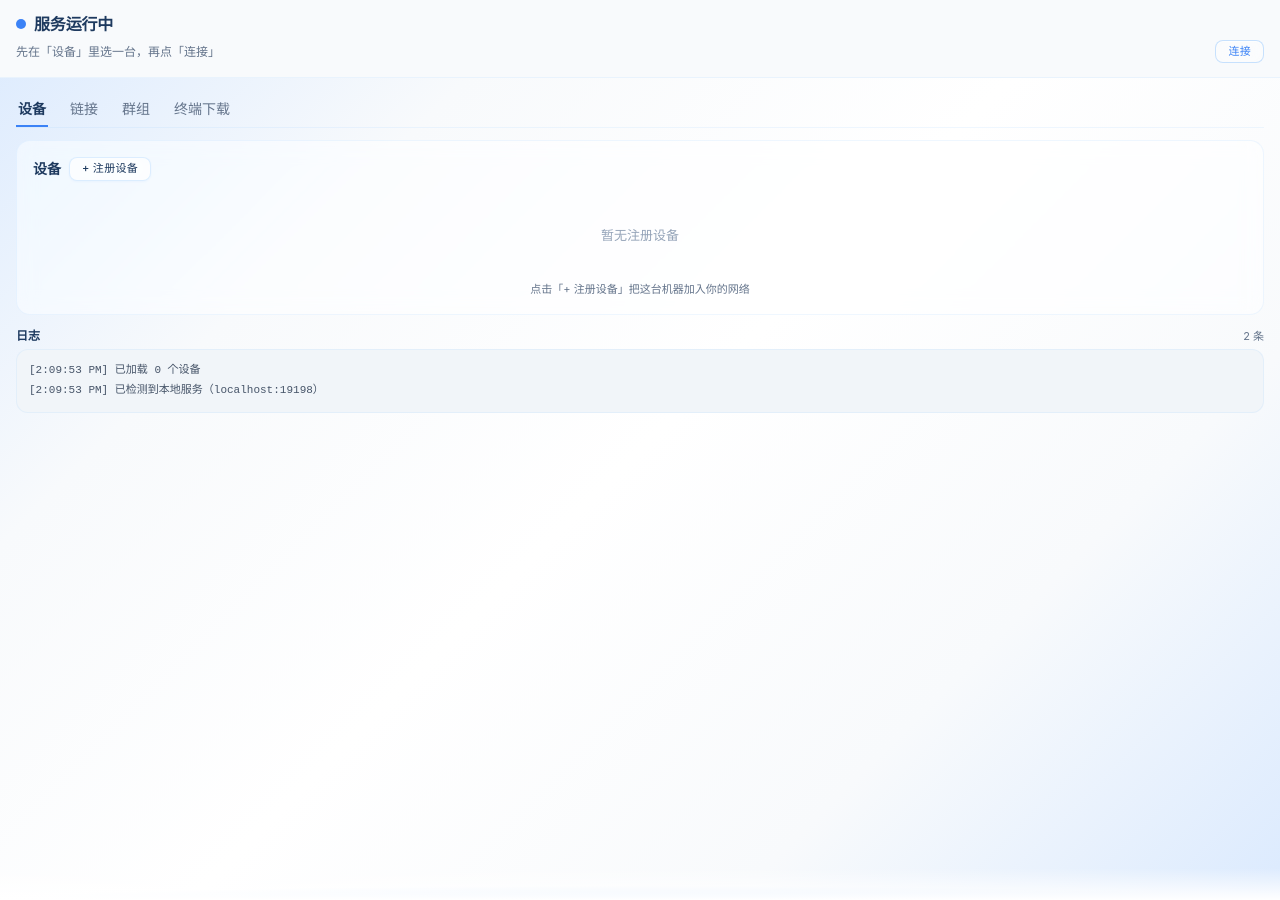
HuanvaeGuardPage 探活链路（结构性缺陷回归） › 就绪不得误清无关错误：连接失败的错误横幅不因服务就绪而消失（负向对照）
The width and height of the screenshot is (1280, 900).
# 用真实交互制造一条与服务状态无关的错误：未选设备就点「连接」→ handleConnect 顶部早返回
Click the button "连接": [1240, 52] box [1215,40,1264,63]
Wait 7000 ms
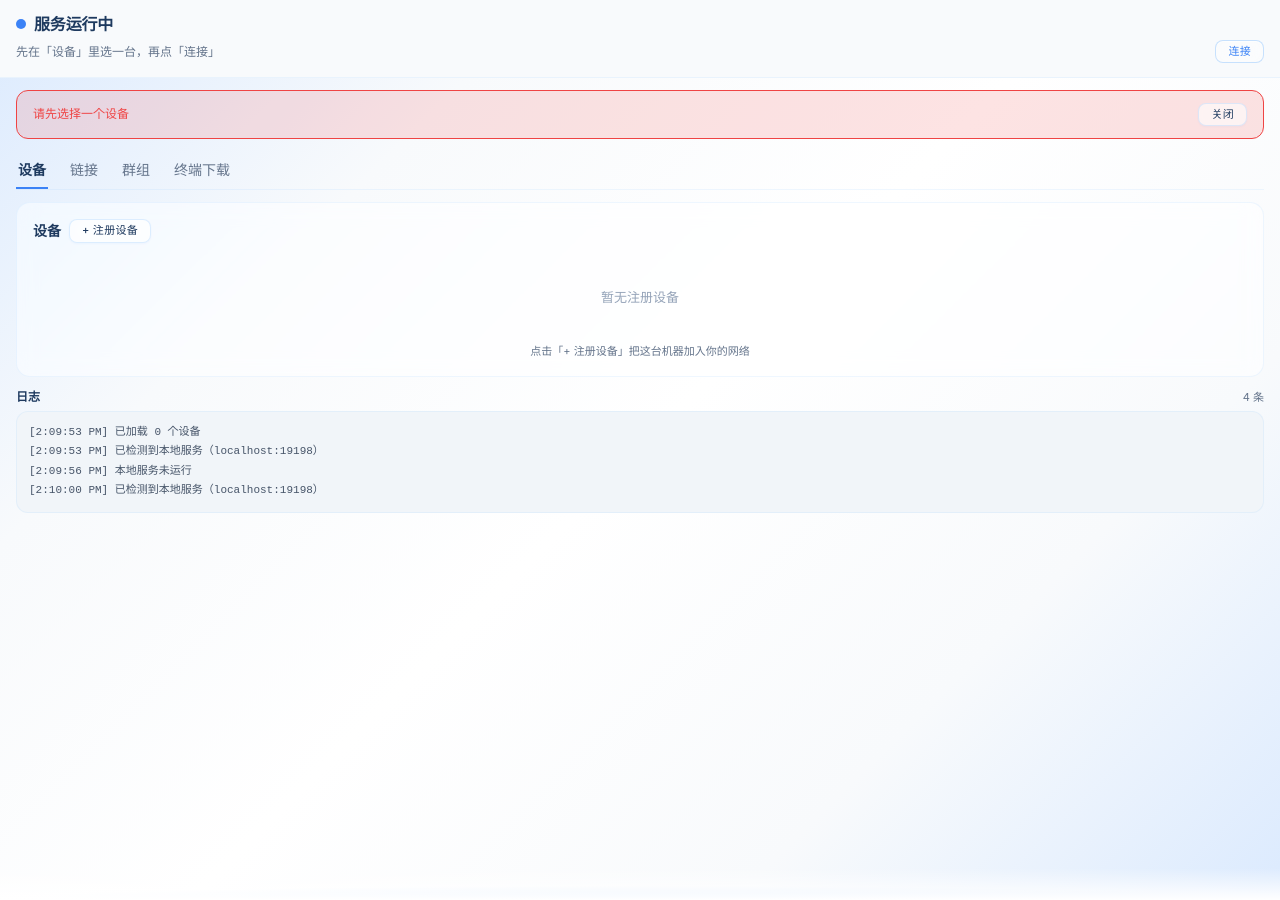
Expected: the text "服务运行中" is shown, [34,12,113,37]
Expected: the text "请先选择一个设备" is shown, [33,106,129,121]
